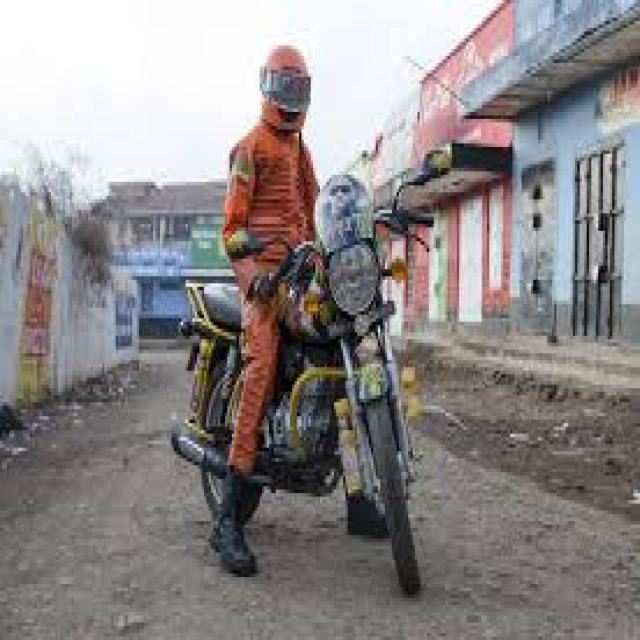bodaboda: (139, 122, 487, 606)
